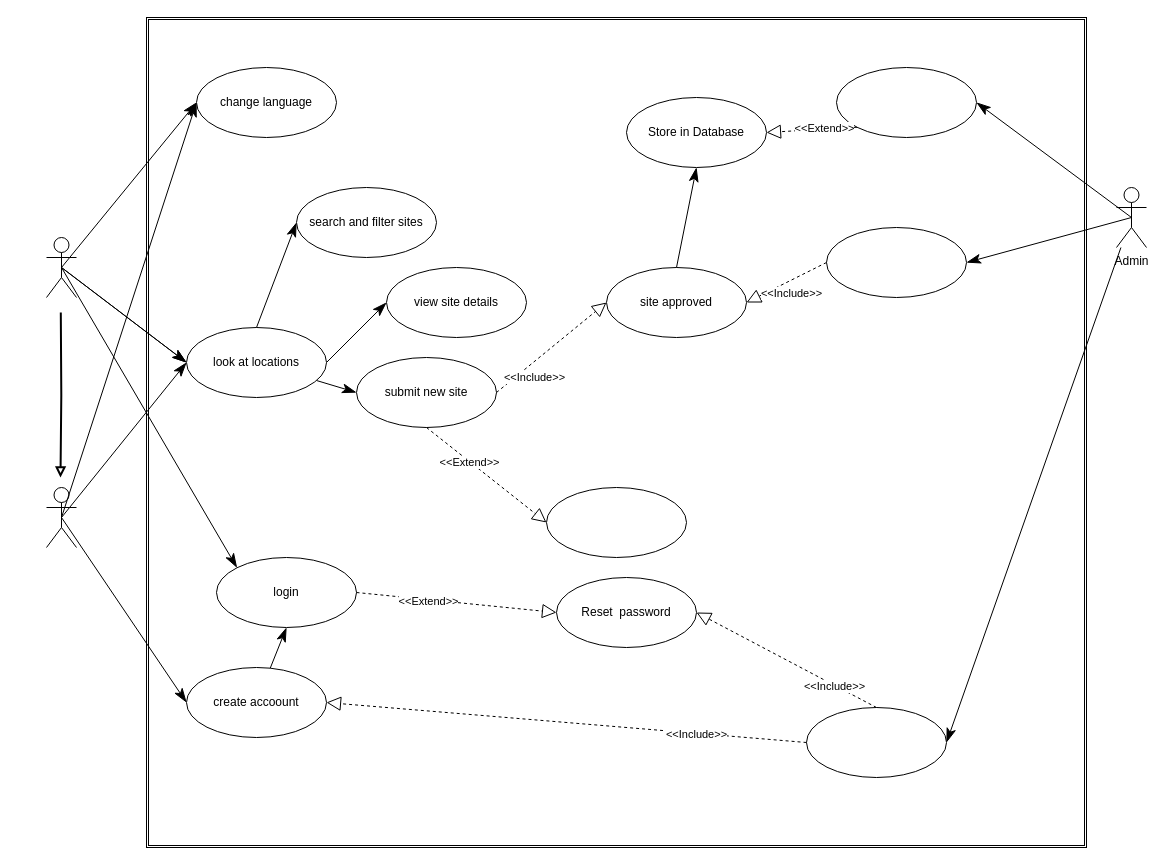
Image size: 1166x865. Some labels were removed from this diagram. Each missing label, with the box of its shape:
casual visitor: (46, 486, 76, 548)
change errors with sites: (836, 66, 976, 138)
contributing user: (46, 236, 76, 298)
moderate accounts: (806, 706, 946, 778)
review pending sites: (826, 226, 966, 298)
upload photos: (546, 486, 686, 558)
